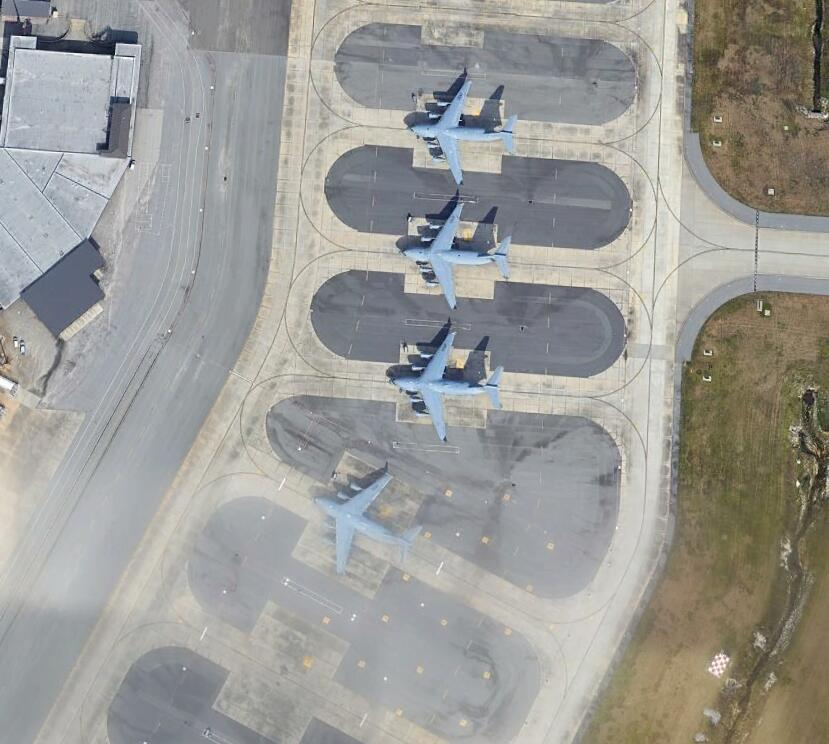A3: (390, 328, 503, 442), (399, 200, 511, 315), (408, 78, 518, 190), (313, 469, 422, 579)
